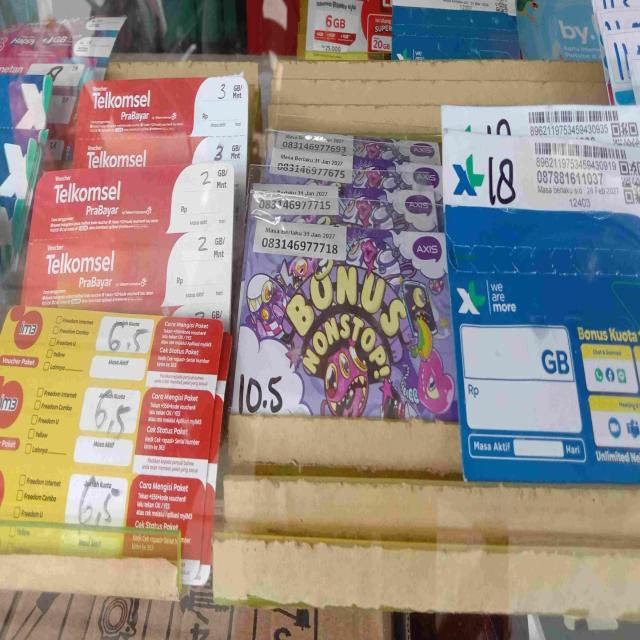Axis: (439, 100, 640, 481), (232, 116, 456, 429), (1, 26, 45, 298)
Telkomsel: (28, 168, 234, 317), (73, 80, 249, 164)
im3: (1, 298, 224, 582)
